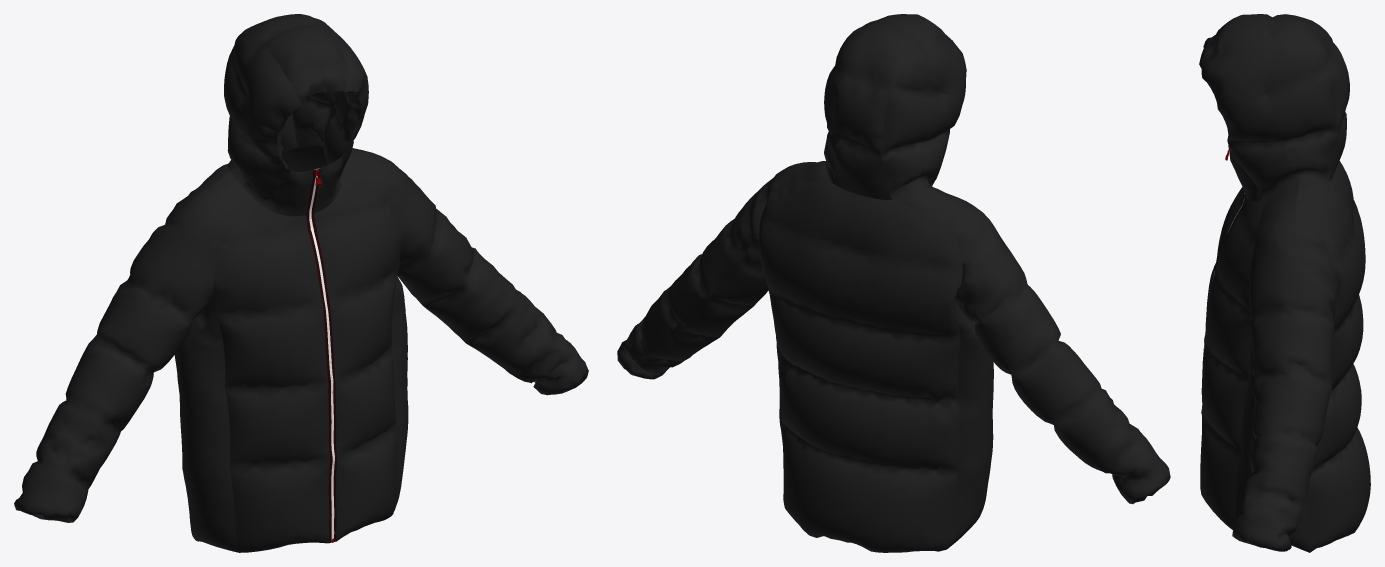
The model's file is jacket.glb.
The picture shows the model from 3 angles, left to right: view 1: azimuth 30°, elevation 25°; view 2: azimuth 150°, elevation 25°; view 3: azimuth 270°, elevation 25°; orthographic projection. The views are drawn at different scales.
Parts seen in each view (by area): view 1: RN20M4.0026_Node_5, RN20M4.0049_Node_37, RN20M4.0027_Node_7, RN20M4.0046_Node_36, RN20M4.0030_Node_18, RN20M4Z.0048_Node_4, RN20M4Z.0053_Node_15, RN20M4Z.0060_Node_35, RN20M4.0048_Node_39, RN20M4.0028_Node_8, RN20M4Z.0057_Node_31, RN20M4Z.0056_Node_34 (+8 smaller); view 2: RN20M4.0017_Node_6, RN20M4.0049_Node_37, RN20M4Z.0048_Node_4, RN20M4.0046_Node_36, RN20M4Z.0057_Node_31, RN20M4.0030_Node_18, RN20M4.0035_Node_10, RN20M4.0032_Node_2, RN20M4Z.0060_Node_35, RN20M4Z.0055_Node_30, RN20M4Z.0056_Node_34; view 3: RN20M4.0046_Node_36, RN20M4.0017_Node_6, RN20M4.0027_Node_7, RN20M4Z.0055_Node_30, RN20M4Z.0048_Node_4, RN20M4Z.0058_Node_32, RN20M4Z.0059_Node_33, RN20M4.0028_Node_8, RN20M4.0047_Node_38, RN20M4.0026_Node_5, RN20M4Z.0044_Node_9.
Boxes of the visible parts, x1,y1,x2,y2 form: RN20M4.0026_Node_5: (213, 205, 330, 552); RN20M4.0049_Node_37: (14, 164, 229, 522); RN20M4.0027_Node_7: (314, 184, 402, 541); RN20M4.0046_Node_36: (352, 148, 588, 395); RN20M4.0030_Node_18: (174, 287, 239, 552); RN20M4Z.0048_Node_4: (238, 14, 352, 149); RN20M4Z.0053_Node_15: (292, 91, 362, 164); RN20M4Z.0060_Node_35: (230, 98, 290, 204); RN20M4.0048_Node_39: (171, 172, 259, 252); RN20M4.0028_Node_8: (391, 240, 408, 510); RN20M4Z.0057_Node_31: (224, 35, 276, 171); RN20M4Z.0056_Node_34: (246, 61, 301, 131); RN20M4.0017_Node_6: (758, 181, 962, 552); RN20M4.0049_Node_37: (892, 187, 1170, 503); RN20M4Z.0048_Node_4: (830, 14, 954, 199); RN20M4.0046_Node_36: (617, 161, 832, 369); RN20M4Z.0057_Node_31: (880, 39, 946, 199); RN20M4.0030_Node_18: (947, 288, 993, 548); RN20M4.0035_Node_10: (626, 235, 767, 379); RN20M4.0032_Node_2: (957, 285, 1132, 503); RN20M4Z.0060_Node_35: (922, 93, 965, 186); RN20M4Z.0055_Node_30: (824, 20, 876, 182); RN20M4Z.0056_Node_34: (939, 39, 966, 94); RN20M4.0046_Node_36: (1232, 181, 1338, 551); RN20M4.0017_Node_6: (1307, 160, 1370, 552); RN20M4.0027_Node_7: (1200, 195, 1262, 529); RN20M4Z.0055_Node_30: (1239, 38, 1339, 183); RN20M4Z.0048_Node_4: (1199, 14, 1349, 180); RN20M4Z.0058_Node_32: (1218, 94, 1298, 199); RN20M4Z.0059_Node_33: (1201, 45, 1266, 109); RN20M4.0028_Node_8: (1235, 332, 1310, 552); RN20M4.0047_Node_38: (1253, 184, 1298, 251); RN20M4.0026_Node_5: (1202, 187, 1244, 431); RN20M4Z.0044_Node_9: (1229, 150, 1262, 201).
Size of the model in its own units: 1.23 by 1.07 by 0.3366.
11 materials, 5 textured.
